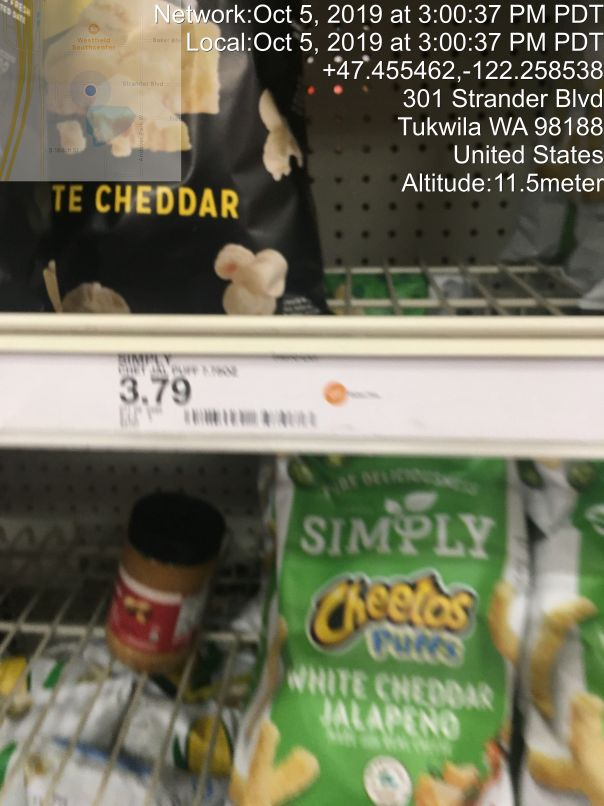Label: (103, 347, 371, 441)
Location: (394, 87, 604, 167)
Simply: (275, 446, 510, 806)
Time: (152, 1, 604, 59)
Void: (15, 460, 252, 798)
